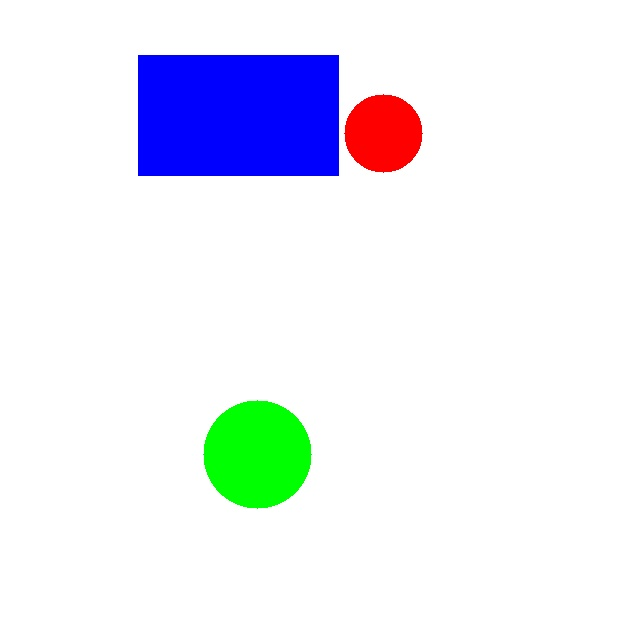cartao: (138, 55, 338, 175)
rosca_externa: (203, 400, 311, 508)
rosca_interna: (344, 94, 422, 172)
